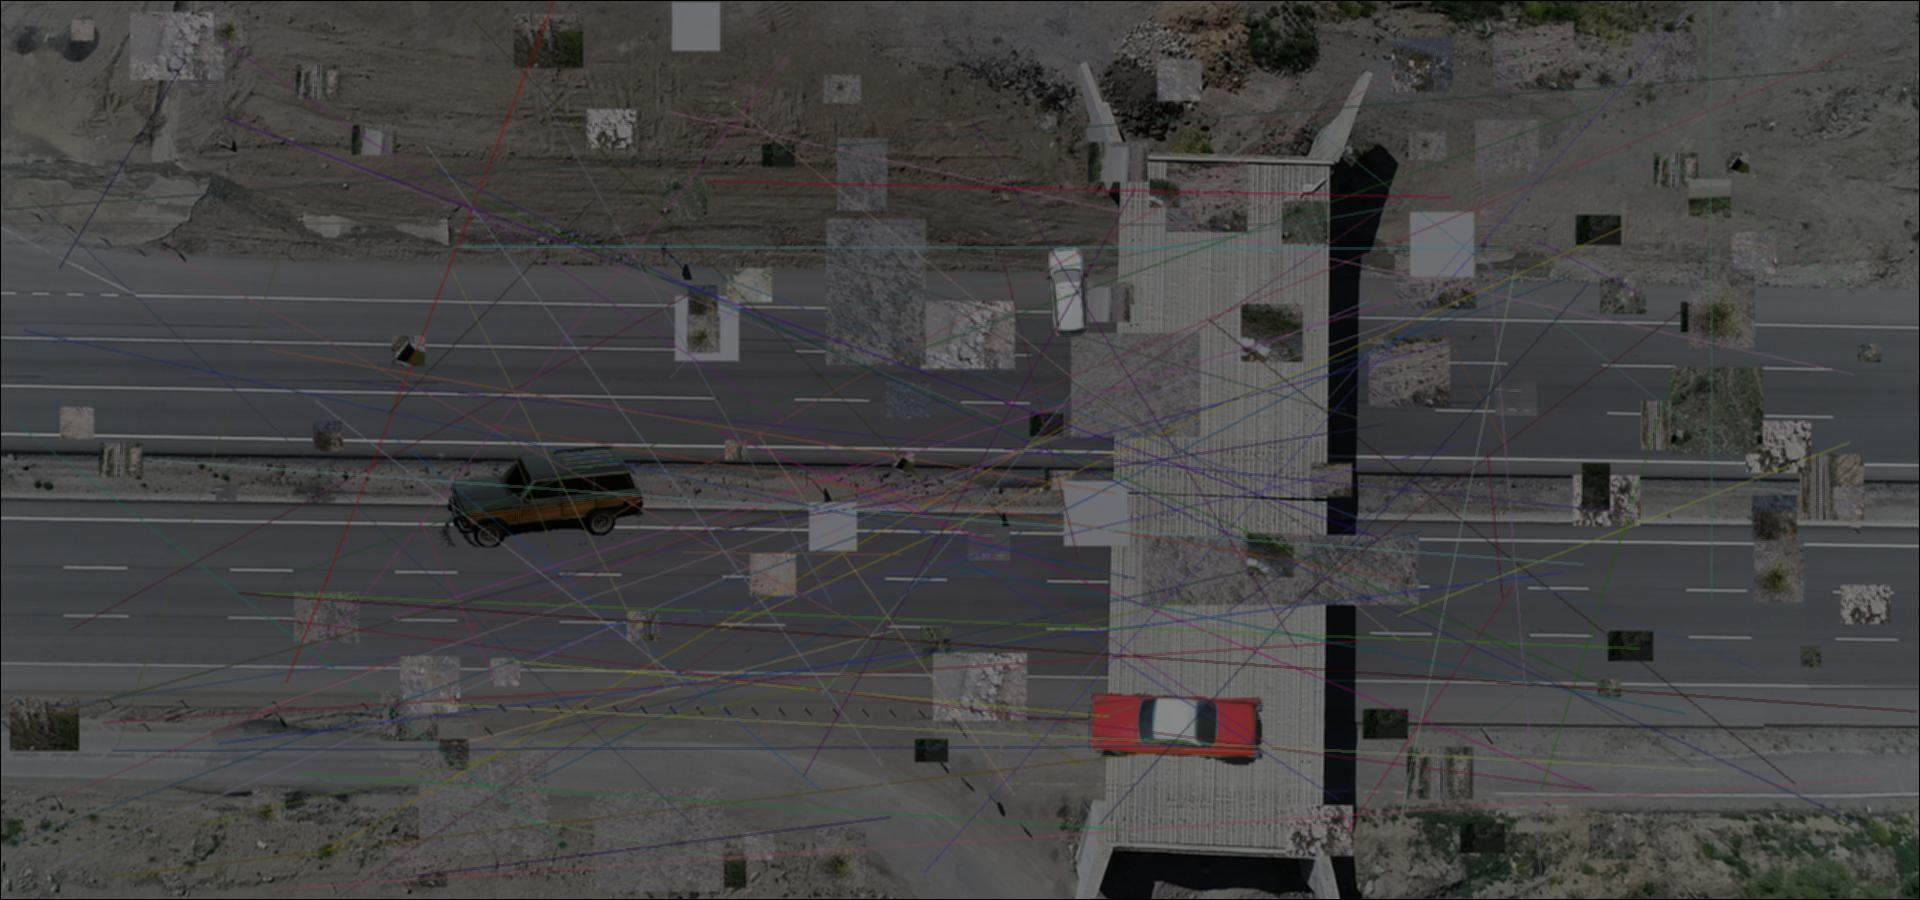arac: (438, 442, 643, 547), (1089, 691, 1269, 767), (1042, 245, 1093, 338)
